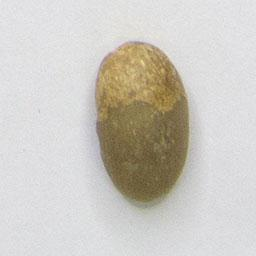longberry: (91, 37, 193, 208)
